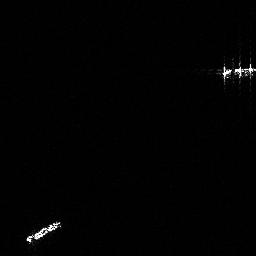ship: (27, 221, 62, 242), (223, 64, 255, 81)
